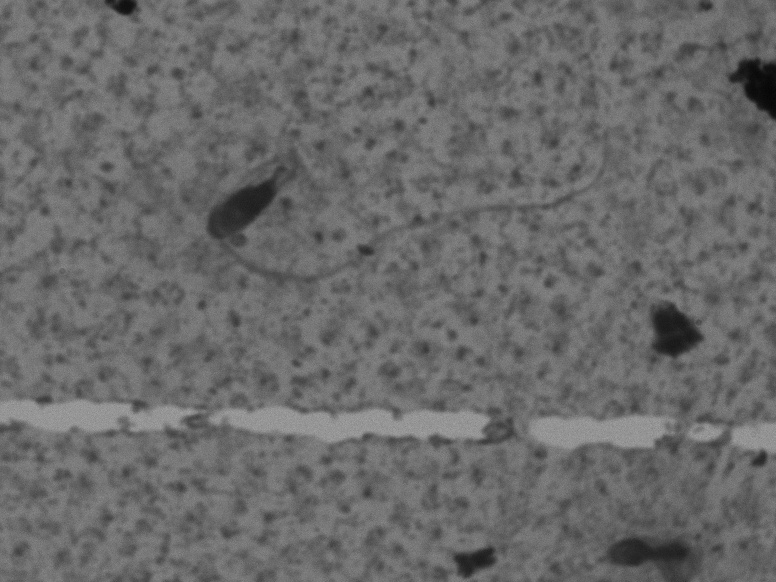Abnormal: (162, 42, 628, 299)
